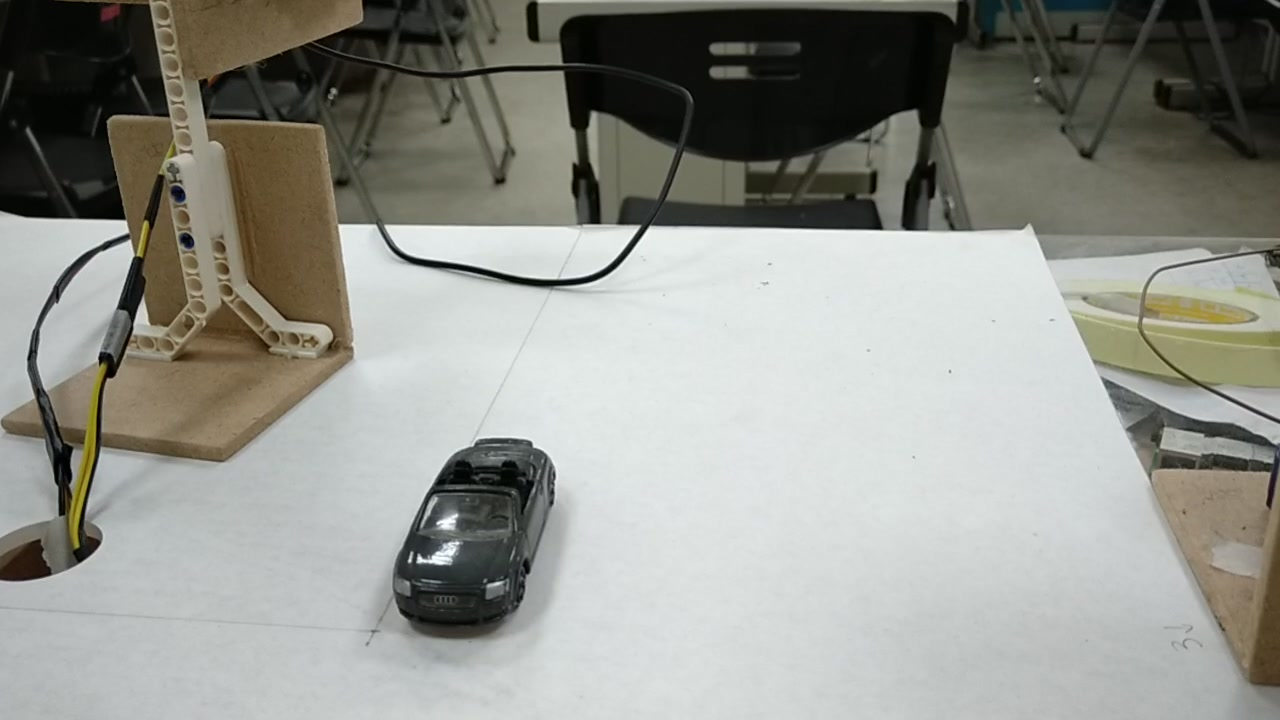car: (394, 438, 562, 626)
